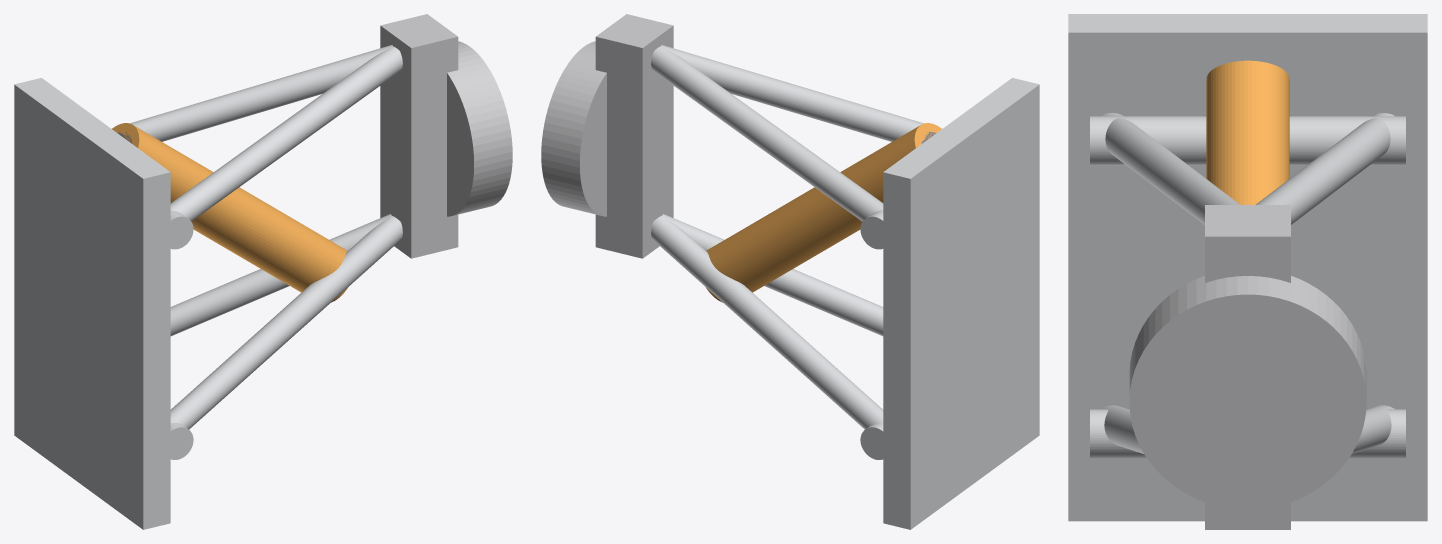
Rendered from rover17_suspension_arm_l_susp_up.glb.
3 renders of one model, left to right at view 1: azimuth 30°, elevation 25°; view 2: azimuth 150°, elevation 25°; view 3: azimuth 270°, elevation 25°, orthographic. The views are drawn at different scales.
Parts seen in each view (by area): view 1: mount_plate, arm_upright, arm_upper, arm_lower, spring; view 2: mount_plate, arm_upright, arm_upper, arm_lower, spring; view 3: mount_plate, arm_upright, arm_upper, spring, arm_lower.
Boxes of the visible parts, x1,y1,x2,y2 form: mount_plate: (14,78,170,529); arm_upright: (380,14,512,258); arm_upper: (130,45,402,249); arm_lower: (170,214,402,459); spring: (112,123,347,302); mount_plate: (883,78,1039,529); arm_upright: (541,14,673,258); arm_upper: (651,45,923,249); arm_lower: (651,214,883,459); spring: (706,123,941,302); mount_plate: (1068,14,1427,521); arm_upright: (1129,205,1366,529); arm_upper: (1090,113,1405,224); spring: (1206,60,1289,204); arm_lower: (1090,405,1405,458).
Size of the model in its own units: 0.7 by 0.63 by 0.4.
